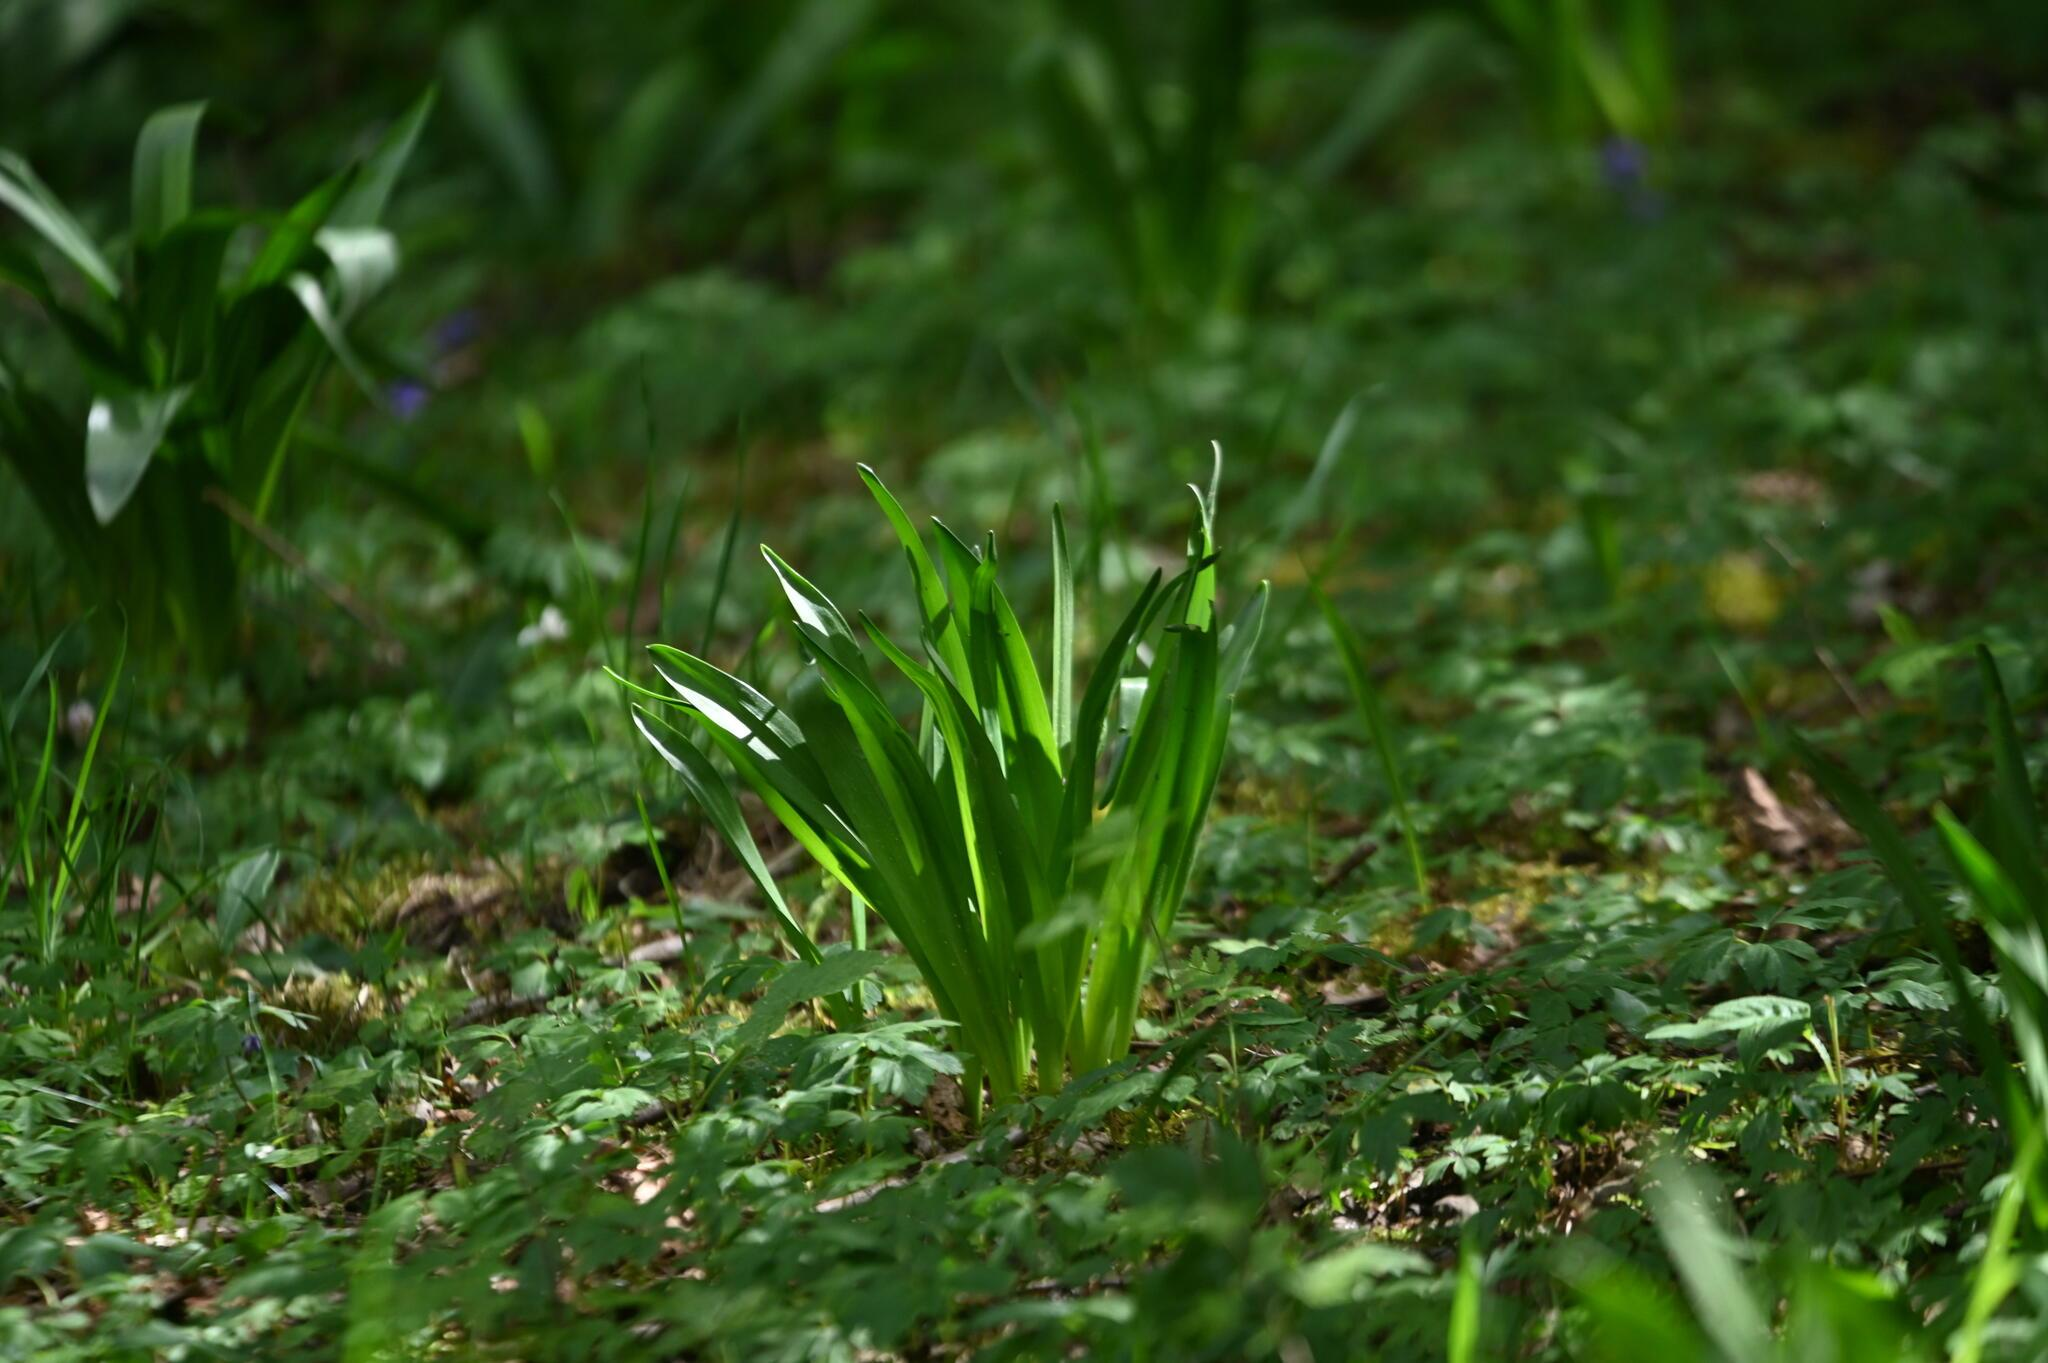Colchicum autumnale L: (600, 456, 1384, 1176)
